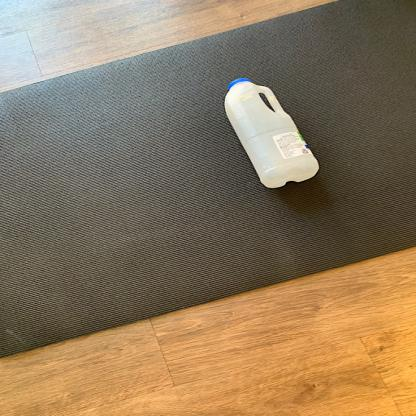trash: (225, 77, 319, 192)
